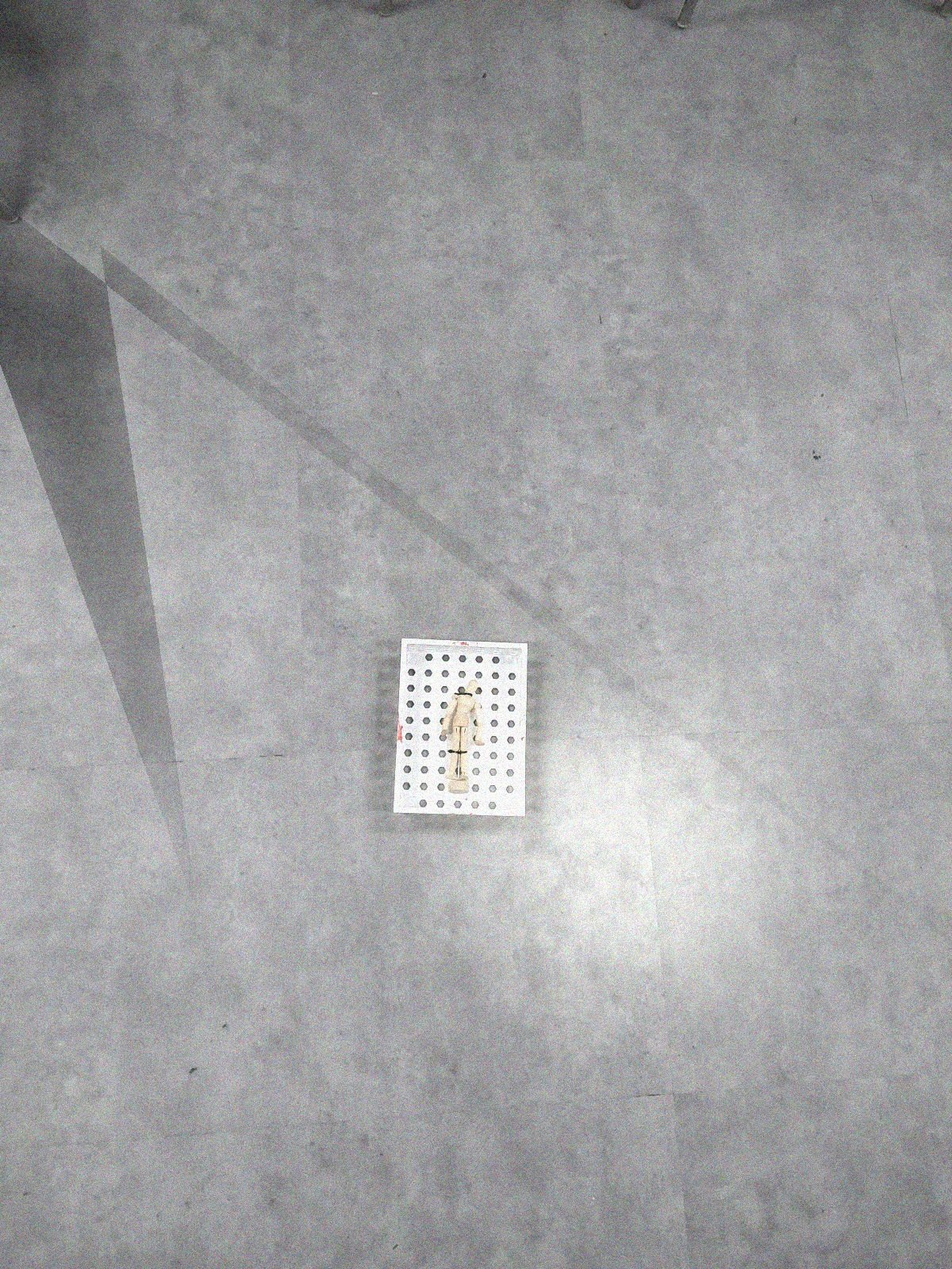basket: (390, 636, 529, 819)
mannequin: (440, 677, 487, 795)
